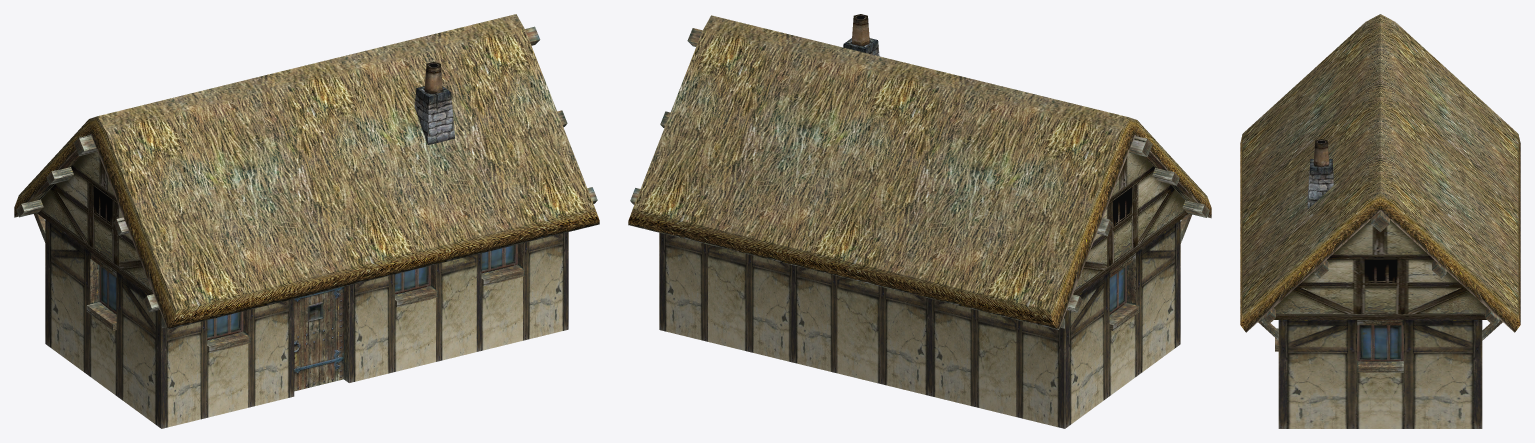
The model's file is S_home34.glb.
3 renders of one model, left to right at view 1: azimuth 30°, elevation 25°; view 2: azimuth 150°, elevation 25°; view 3: azimuth 270°, elevation 25°, orthographic. The views are drawn at different scales.
Visible parts, largest first — view 1: S_home34-col; view 2: S_home34-col; view 3: S_home34-col.
Boxes of the visible parts, x1,y1,x2,y2 form: S_home34-col: (14,14,599,428); S_home34-col: (628,14,1211,428); S_home34-col: (1240,14,1520,428).
Size of the model in its own units: 9.97 by 5.71 by 6.05.
9 materials, 9 textured.
